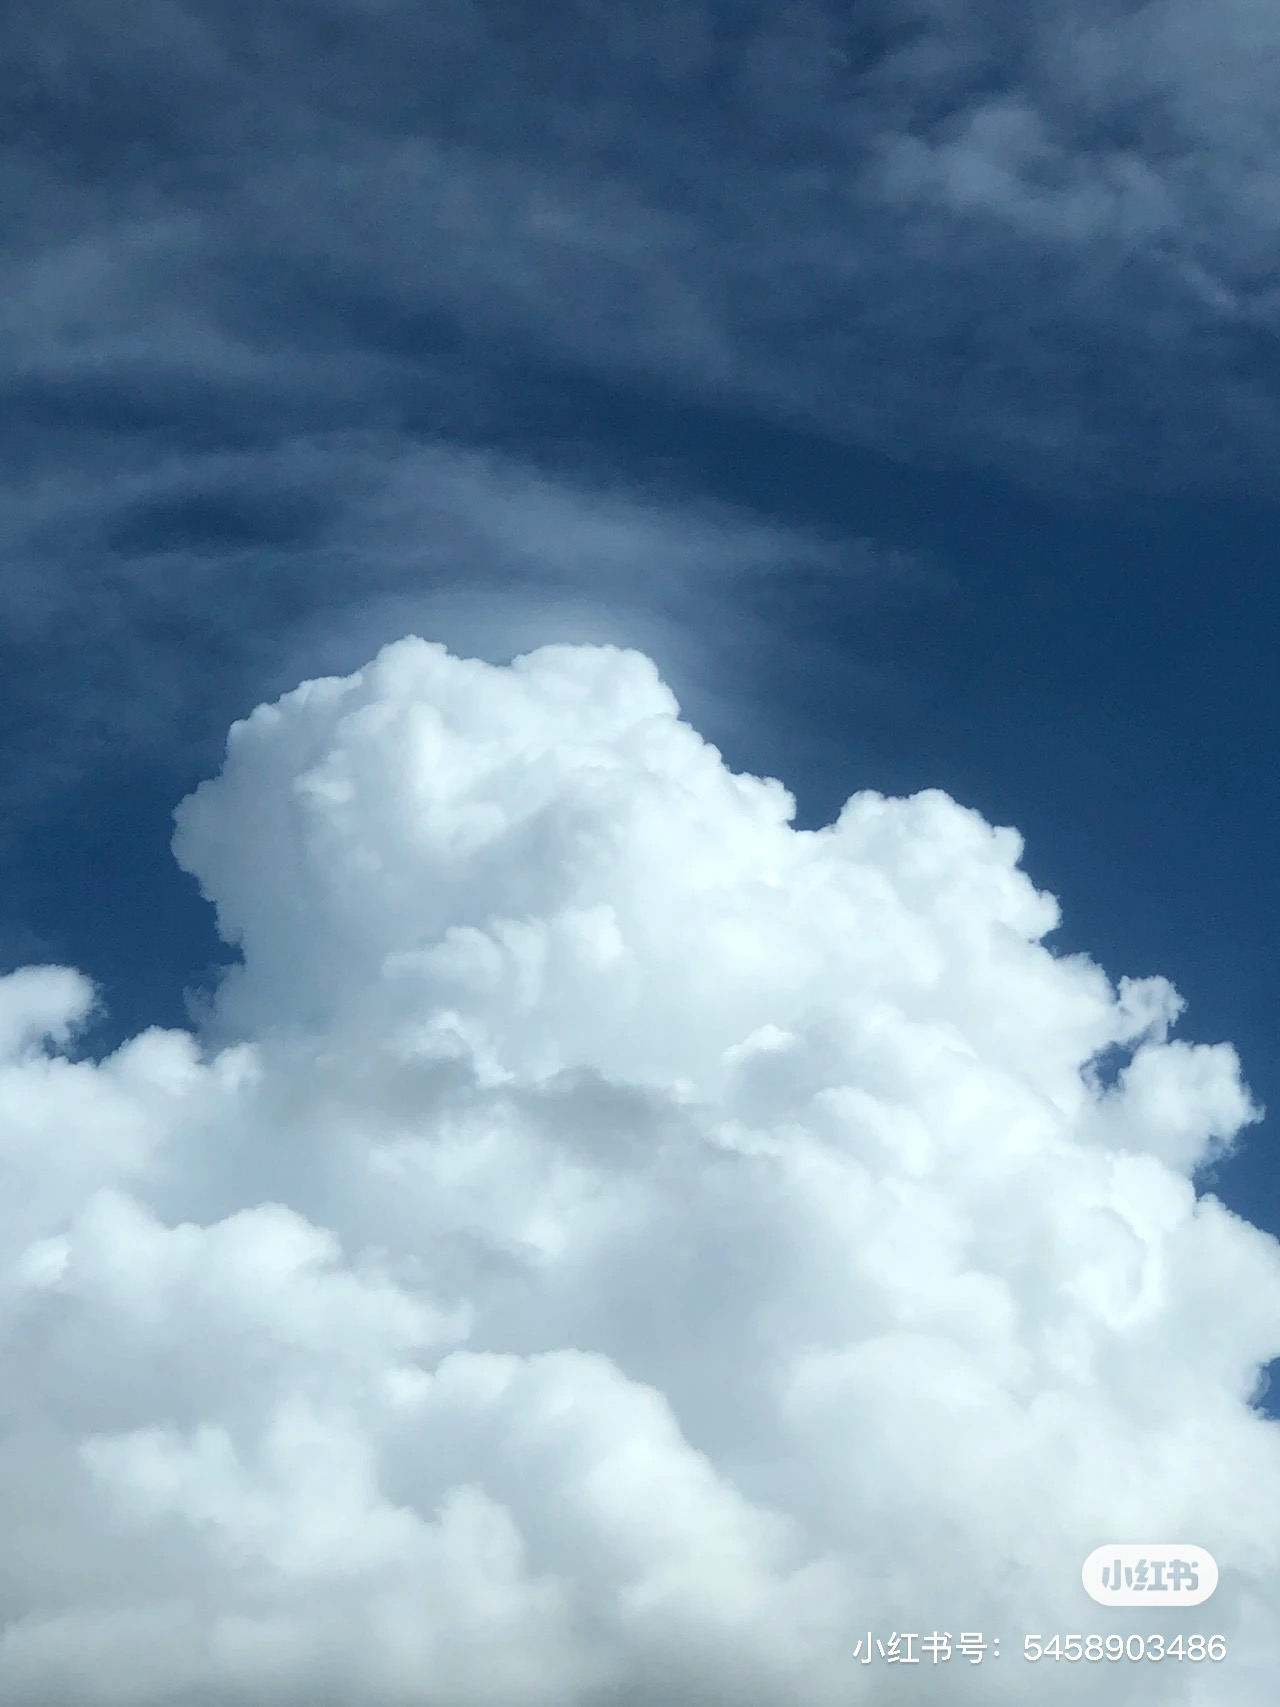Cumulus: (56, 544, 1245, 1552)
